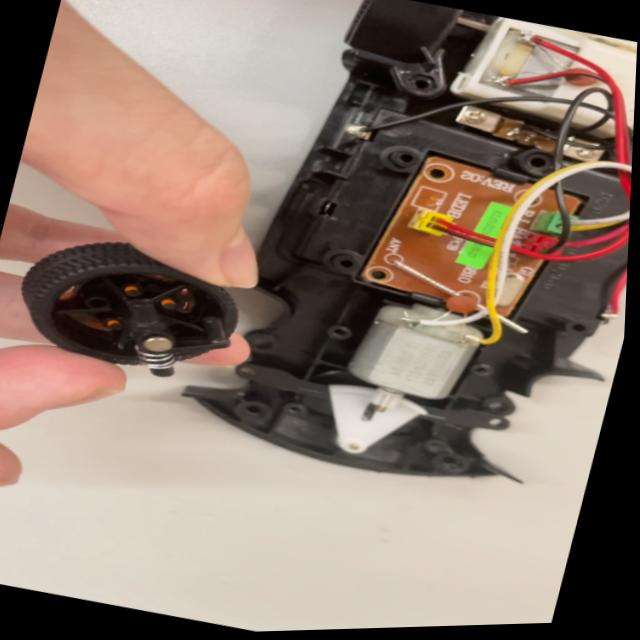motor: (322, 286, 502, 447)
wheel: (6, 217, 254, 406)
